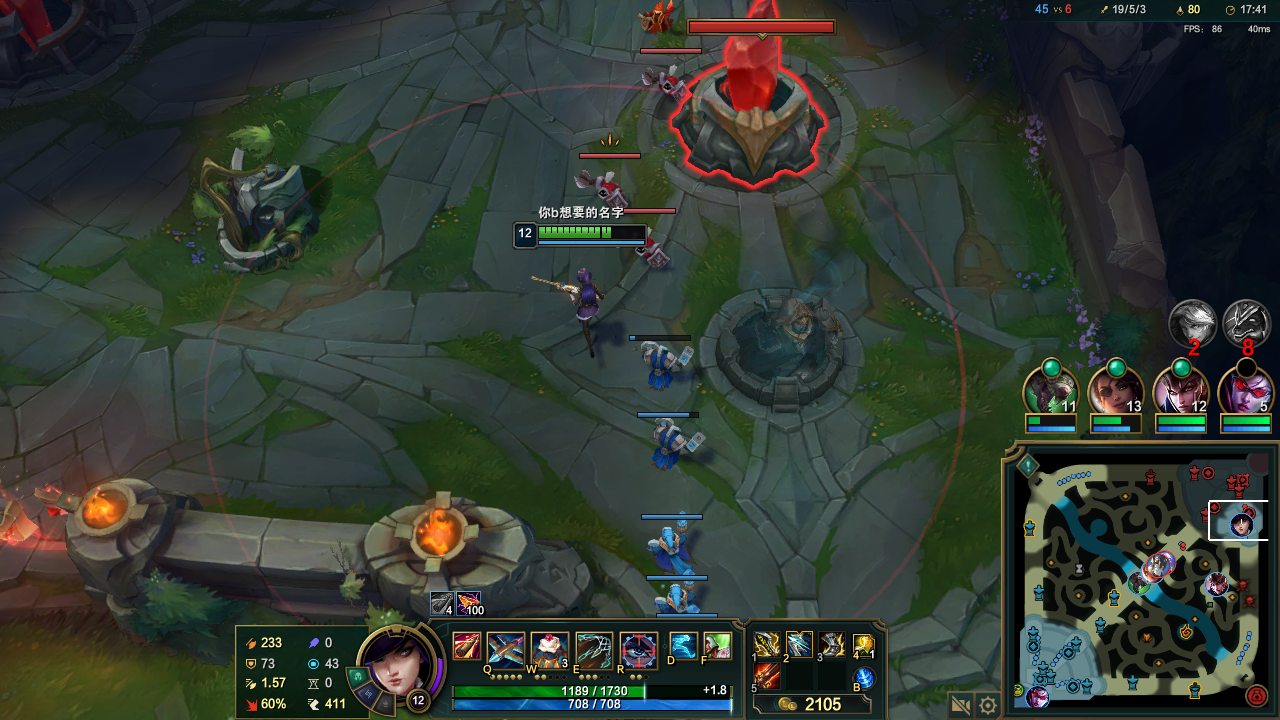DFSJ: (677, 22, 834, 183)
DFXB: (651, 65, 679, 100)
KF: (790, 636, 809, 646)
WFXB: (654, 419, 700, 467), (652, 522, 693, 574), (638, 346, 683, 386), (589, 167, 625, 207), (653, 584, 704, 608), (639, 4, 674, 34), (634, 240, 661, 267)
